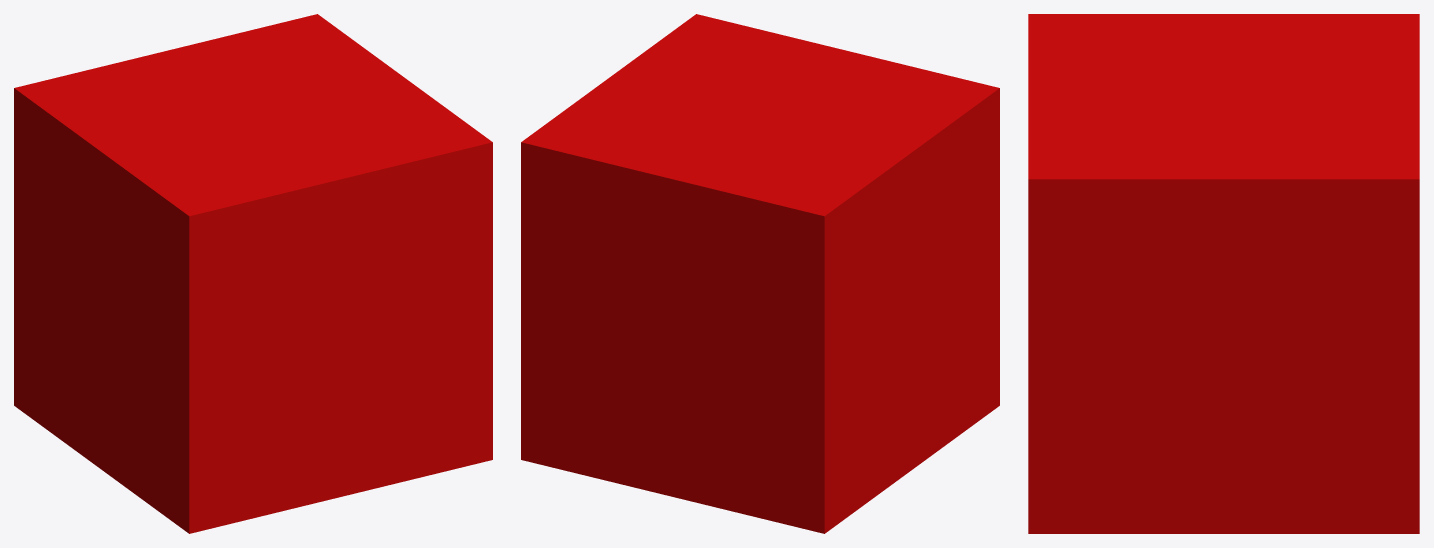
Rendered from wall3.fbx.
The picture shows the model from 3 angles, left to right: view 1: azimuth 30°, elevation 25°; view 2: azimuth 150°, elevation 25°; view 3: azimuth 270°, elevation 25°; orthographic projection. The views are drawn at different scales.
Visible parts, largest first — view 1: pCube1; view 2: pCube1; view 3: pCube1.
Boxes of the visible parts, left/top/right/bottom form: pCube1: left=14, top=14, right=492, bottom=533; pCube1: left=521, top=14, right=999, bottom=533; pCube1: left=1028, top=14, right=1419, bottom=533.
Bounding box in the file's own units: 2 × 2 × 2.
